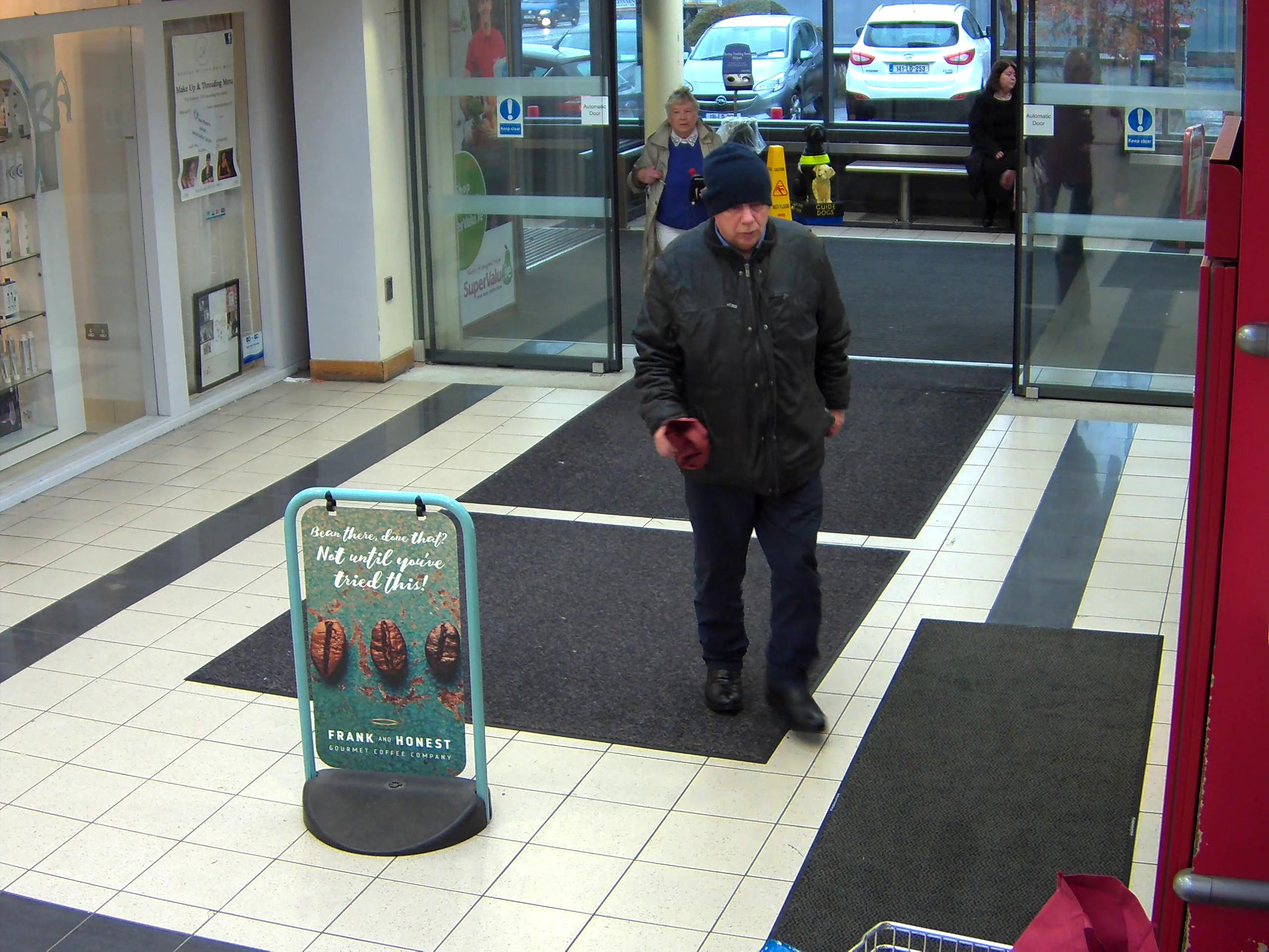empty-shopping-bags: (660, 415, 712, 473)
person: (633, 146, 854, 733)
person-with-empty-shopping-bag-s-: (633, 148, 855, 736)
